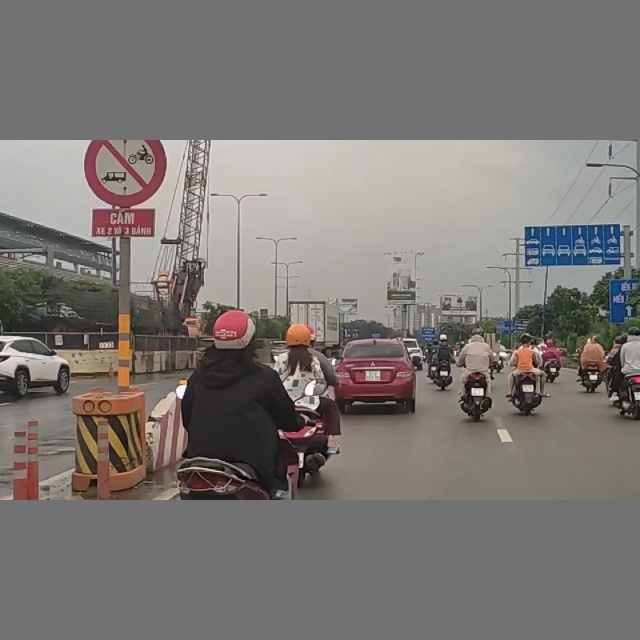P.111: (84, 140, 165, 205)
